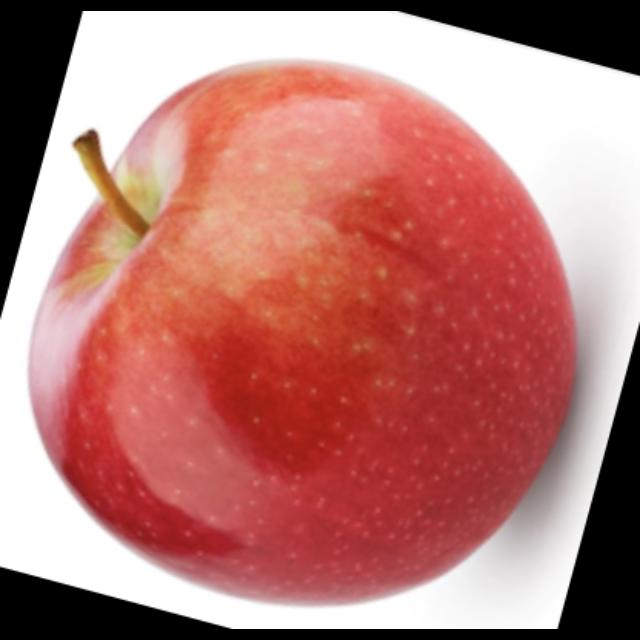Apel Segar: (29, 64, 578, 614)
